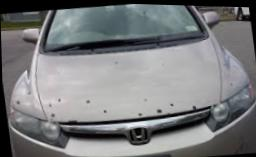Bonnet: (36, 35, 221, 124)
